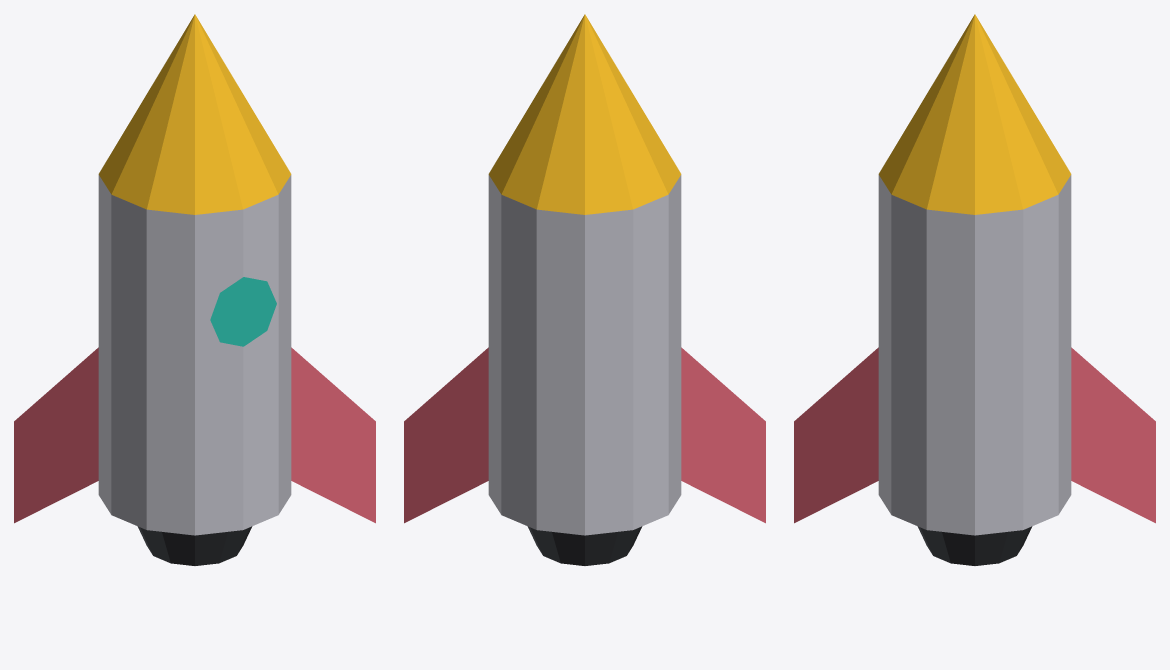
Rendered from rocket.glb.
3 renders of one model, left to right at view 1: azimuth 30°, elevation 25°; view 2: azimuth 150°, elevation 25°; view 3: azimuth 270°, elevation 25°, orthographic.
Parts seen in each view (by area): view 1: Body, Nose, Fin, Fin.001, Porthole, Nozzle; view 2: Body, Nose, Fin, Fin.002, Nozzle; view 3: Body, Nose, Fin.001, Fin.002, Nozzle.
Part boxes in pixels (box(x1,y1,x2,y2)): Body: box(98, 175, 291, 535); Nose: box(98, 14, 291, 214); Fin: box(291, 347, 375, 523); Fin.001: box(14, 347, 98, 523); Porthole: box(210, 277, 276, 346); Nozzle: box(137, 526, 252, 565); Body: box(488, 175, 681, 535); Nose: box(488, 14, 681, 214); Fin: box(404, 347, 488, 523); Fin.002: box(681, 347, 765, 523); Nozzle: box(527, 526, 642, 565); Body: box(878, 175, 1071, 535); Nose: box(878, 14, 1071, 214); Fin.001: box(1071, 347, 1155, 523); Fin.002: box(794, 347, 878, 523); Nozzle: box(917, 526, 1032, 565).
Size of the model in its own units: 1.95 by 3.8 by 2.25.
